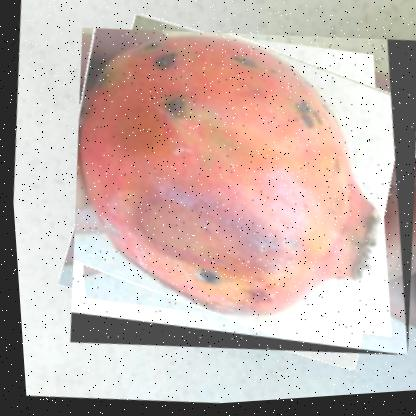pomegranate_rotten: (47, 9, 415, 379)
